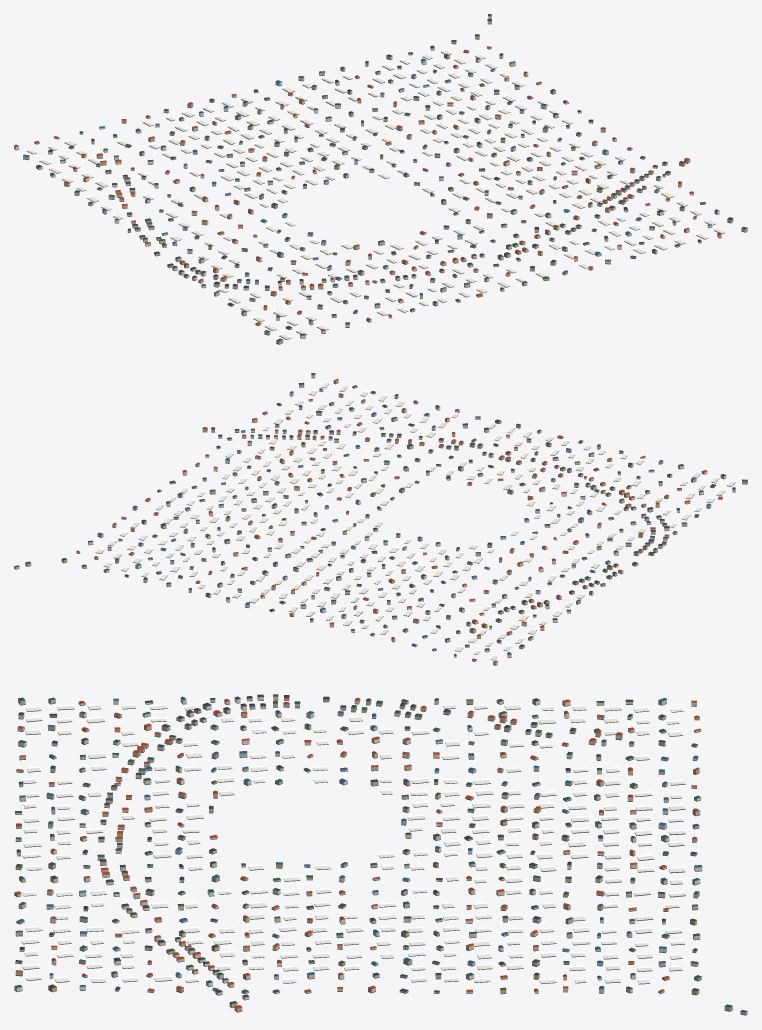
Rendered from buildings_T_W02_S07.glb.
The picture shows the model from 3 angles, top to bottom: view 1: azimuth 30°, elevation 25°; view 2: azimuth 150°, elevation 25°; view 3: azimuth 270°, elevation 25°; orthographic projection. The views are drawn at different scales.
Visible parts, largest first — view 1: T_W02_S07_roofs_agri_greenhouse_arch, T_W02_S07_slope_seating_foundations, T_W02_S07_walls_wall_dalat_cream_stucco, T_W02_S07_walls_wall_pastel_sand_gray, T_W02_S07_walls_wall_modern_warm_white, T_W02_S07_walls_wall_french_ochre_villa, T_W02_S07_roofs_roof_terracotta_gable, T_W02_S07_roofs_roof_slate_French_villa_hip, T_W02_S07_roofs_roof_pine_green_hip, T_W02_S07_roofs_roof_highland_blue_gable; view 2: T_W02_S07_roofs_agri_greenhouse_arch, T_W02_S07_slope_seating_foundations, T_W02_S07_walls_wall_dalat_cream_stucco, T_W02_S07_walls_wall_pastel_sand_gray, T_W02_S07_walls_wall_french_ochre_villa, T_W02_S07_walls_wall_modern_warm_white, T_W02_S07_roofs_roof_terracotta_gable, T_W02_S07_roofs_roof_slate_French_villa_hip, T_W02_S07_roofs_roof_pine_green_hip, T_W02_S07_roofs_roof_highland_blue_gable; view 3: T_W02_S07_roofs_agri_greenhouse_arch, T_W02_S07_slope_seating_foundations, T_W02_S07_walls_wall_dalat_cream_stucco, T_W02_S07_walls_wall_pastel_sand_gray, T_W02_S07_walls_wall_french_ochre_villa, T_W02_S07_walls_wall_modern_warm_white, T_W02_S07_roofs_roof_terracotta_gable, T_W02_S07_roofs_roof_slate_French_villa_hip, T_W02_S07_roofs_roof_pine_green_hip, T_W02_S07_roofs_roof_highland_blue_gable.
Part boxes in pixels (x1=…): T_W02_S07_roofs_agri_greenhouse_arch: x1=26, y1=49, x2=725, y2=339; T_W02_S07_slope_seating_foundations: x1=14, y1=18, x2=747, y2=344; T_W02_S07_walls_wall_dalat_cream_stucco: x1=23, y1=16, x2=696, y2=325; T_W02_S07_walls_wall_pastel_sand_gray: x1=73, y1=21, x2=701, y2=344; T_W02_S07_walls_wall_modern_warm_white: x1=14, y1=47, x2=747, y2=338; T_W02_S07_walls_wall_french_ochre_villa: x1=34, y1=36, x2=733, y2=329; T_W02_S07_roofs_roof_terracotta_gable: x1=14, y1=46, x2=720, y2=331; T_W02_S07_roofs_roof_slate_French_villa_hip: x1=36, y1=34, x2=733, y2=335; T_W02_S07_roofs_roof_pine_green_hip: x1=50, y1=14, x2=747, y2=341; T_W02_S07_roofs_roof_highland_blue_gable: x1=23, y1=53, x2=719, y2=321; T_W02_S07_roofs_agri_greenhouse_arch: x1=95, y1=381, x2=735, y2=659; T_W02_S07_slope_seating_foundations: x1=14, y1=377, x2=747, y2=665; T_W02_S07_walls_wall_dalat_cream_stucco: x1=14, y1=392, x2=722, y2=657; T_W02_S07_walls_wall_pastel_sand_gray: x1=25, y1=386, x2=747, y2=650; T_W02_S07_walls_wall_french_ochre_villa: x1=61, y1=380, x2=715, y2=661; T_W02_S07_walls_wall_modern_warm_white: x1=88, y1=375, x2=726, y2=665; T_W02_S07_roofs_roof_terracotta_gable: x1=76, y1=378, x2=722, y2=662; T_W02_S07_roofs_roof_slate_French_villa_hip: x1=62, y1=382, x2=726, y2=650; T_W02_S07_roofs_roof_pine_green_hip: x1=14, y1=373, x2=747, y2=650; T_W02_S07_roofs_roof_highland_blue_gable: x1=97, y1=388, x2=710, y2=654; T_W02_S07_roofs_agri_greenhouse_arch: x1=21, y1=703, x2=685, y2=983; T_W02_S07_slope_seating_foundations: x1=14, y1=699, x2=747, y2=1015; T_W02_S07_walls_wall_dalat_cream_stucco: x1=15, y1=696, x2=747, y2=1014; T_W02_S07_walls_wall_pastel_sand_gray: x1=14, y1=699, x2=732, y2=1011; T_W02_S07_walls_wall_french_ochre_villa: x1=15, y1=698, x2=699, y2=1011; T_W02_S07_walls_wall_modern_warm_white: x1=14, y1=696, x2=702, y2=999; T_W02_S07_roofs_roof_terracotta_gable: x1=15, y1=698, x2=701, y2=1008; T_W02_S07_roofs_roof_slate_French_villa_hip: x1=15, y1=694, x2=700, y2=1003; T_W02_S07_roofs_roof_pine_green_hip: x1=14, y1=694, x2=747, y2=1012; T_W02_S07_roofs_roof_highland_blue_gable: x1=16, y1=696, x2=702, y2=989.
Bounding box in the file's own units: 1882 × 31.39 × 1871.
